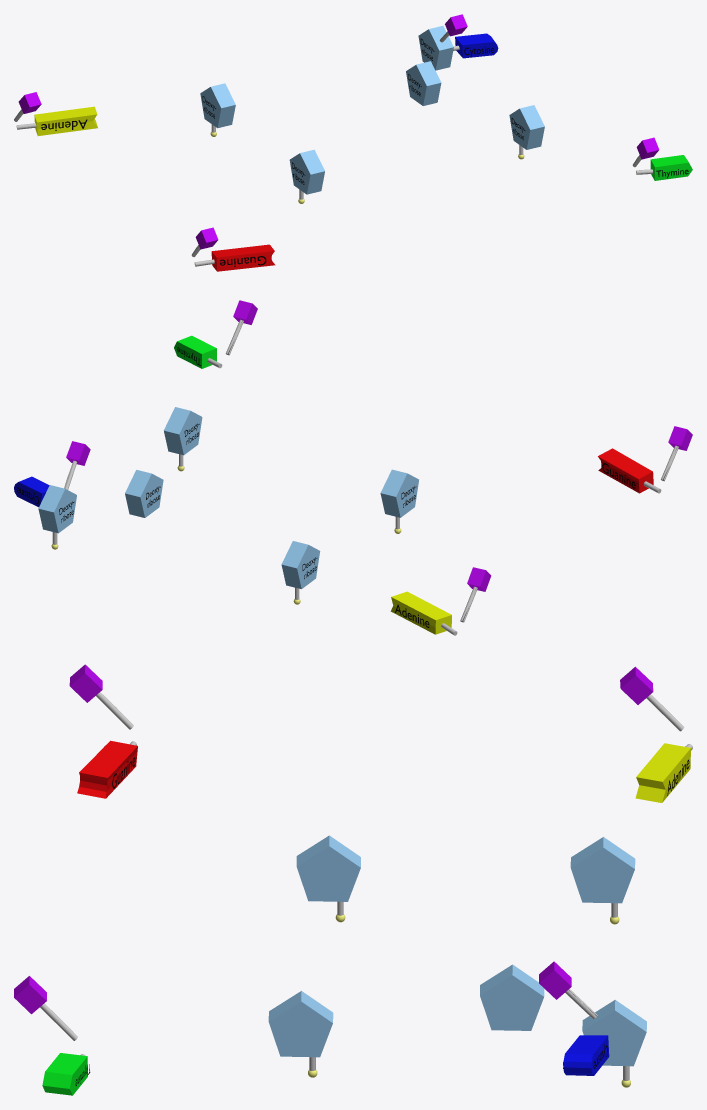
Rendered from asseyts.glb.
3 renders of one model, top to bottom at view 1: azimuth 30°, elevation 25°; view 2: azimuth 150°, elevation 25°; view 3: azimuth 270°, elevation 25°, orthographic. The views are drawn at different scales.
Visible parts, largest first — view 1: Deoxyribose.006 (×4), Connector_Ribose_Base.001, Connector_Ribose_Base.002, Deoxyribose.002, Connector_Ribose_Base.003, Connector_Ribose_Base.004, Phosphate.001, Phosphate.003, Phosphate.002, Phosphate.004; view 2: Deoxyribose.006 (×4), Connector_Ribose_Base.001, Connector_Ribose_Base.002, Deoxyribose.002, Connector_Ribose_Base.003, Connector_Ribose_Base.004, Phosphate.001, Phosphate.003, Phosphate.002, Phosphate.004; view 3: Deoxyribose.006 (×4), Deoxyribose.002, Connector_Ribose_Base.002, Connector_Ribose_Base.001, Connector_Ribose_Base.004, Connector_Ribose_Base.003, Phosphate.001, Phosphate.002, Phosphate.003, Phosphate.004.
Boxes of the visible parts, x1,y1,x2,y2 form: Deoxyribose.006 (×4): [200, 61, 544, 194]; Connector_Ribose_Base.001: [16, 106, 97, 135]; Connector_Ribose_Base.002: [194, 244, 275, 271]; Deoxyribose.002: [418, 26, 453, 70]; Connector_Ribose_Base.003: [636, 155, 692, 180]; Connector_Ribose_Base.004: [453, 33, 498, 58]; Phosphate.001: [14, 92, 41, 121]; Phosphate.003: [632, 137, 659, 167]; Phosphate.002: [191, 227, 218, 256]; Phosphate.004: [439, 14, 467, 42]; Deoxyribose.006 (×4): [125, 407, 418, 589]; Connector_Ribose_Base.001: [390, 591, 457, 635]; Connector_Ribose_Base.002: [598, 448, 661, 493]; Deoxyribose.002: [38, 485, 76, 533]; Connector_Ribose_Base.003: [174, 335, 222, 368]; Connector_Ribose_Base.004: [14, 476, 49, 507]; Phosphate.001: [460, 567, 491, 622]; Phosphate.003: [225, 300, 257, 355]; Phosphate.002: [661, 426, 692, 481]; Phosphate.004: [64, 441, 90, 489]; Deoxyribose.006 (×4): [268, 835, 635, 1057]; Deoxyribose.002: [582, 1000, 646, 1066]; Connector_Ribose_Base.002: [77, 740, 137, 798]; Connector_Ribose_Base.001: [635, 743, 692, 802]; Connector_Ribose_Base.004: [563, 1035, 609, 1075]; Connector_Ribose_Base.003: [42, 1053, 87, 1095]; Phosphate.001: [620, 666, 684, 731]; Phosphate.002: [69, 664, 133, 729]; Phosphate.003: [14, 976, 77, 1040]; Phosphate.004: [539, 961, 597, 1018].
Bounding box in the file's own units: 9.95 × 1.6 × 8.02.
